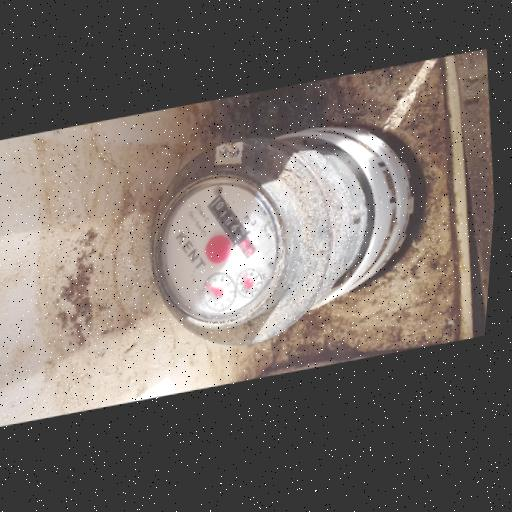0: (235, 235, 254, 254), (218, 212, 238, 230), (210, 196, 229, 214), (240, 242, 259, 259)
1: (214, 204, 233, 223)
5: (229, 226, 249, 245)
6: (225, 220, 244, 238)
border_water_meter_number: (196, 185, 269, 271)
